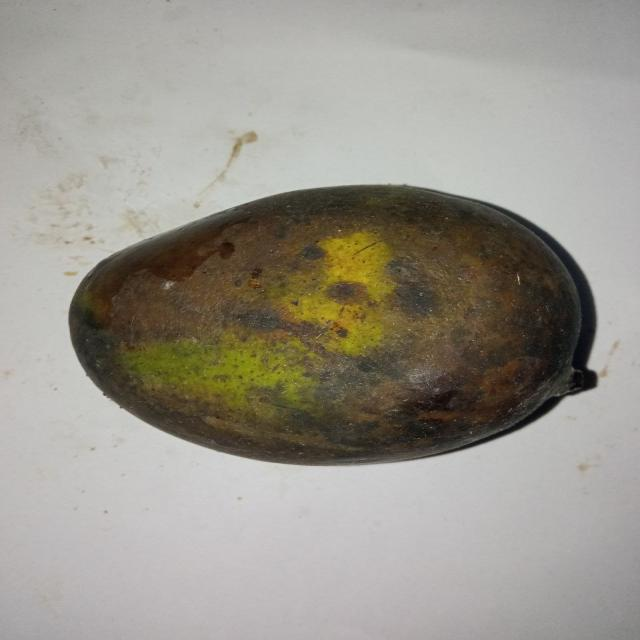rotten_mango: (69, 184, 588, 461)
